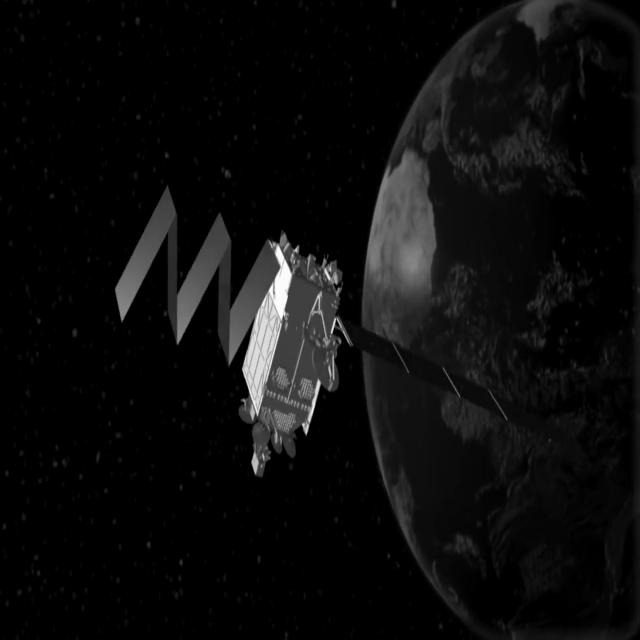satellite: (118, 187, 542, 493)
